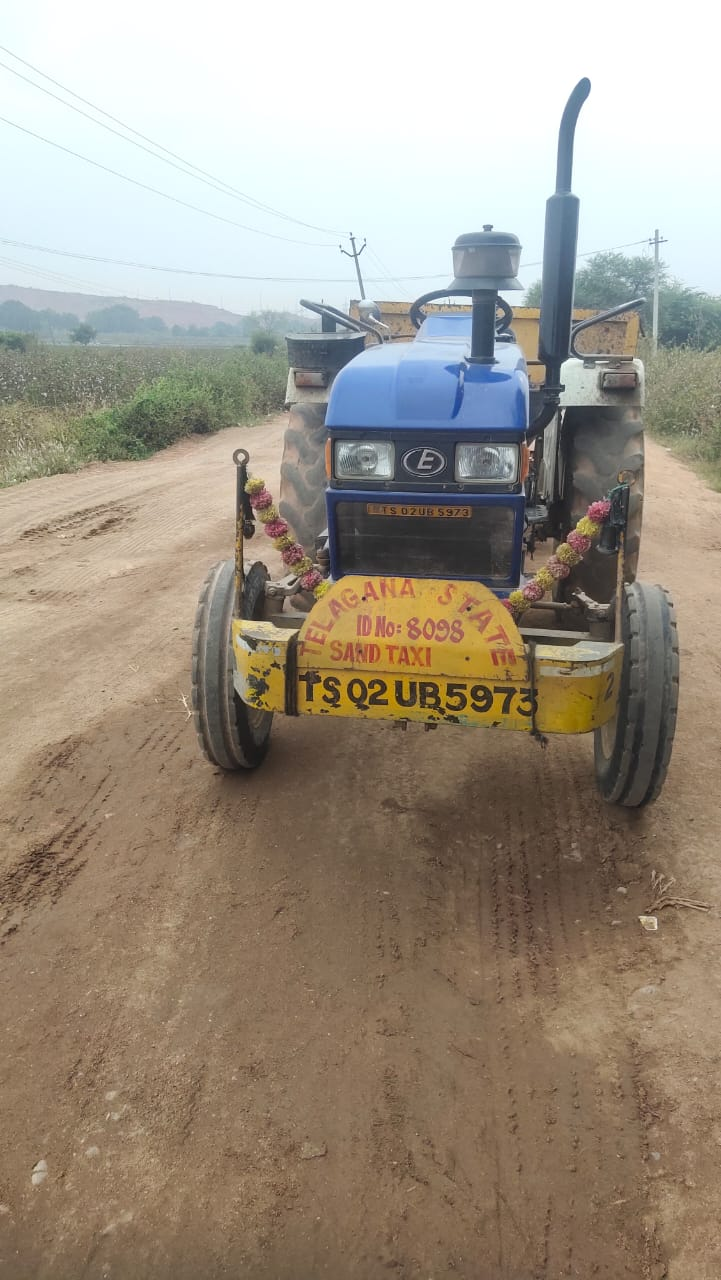num_plate: (287, 661, 552, 733)
